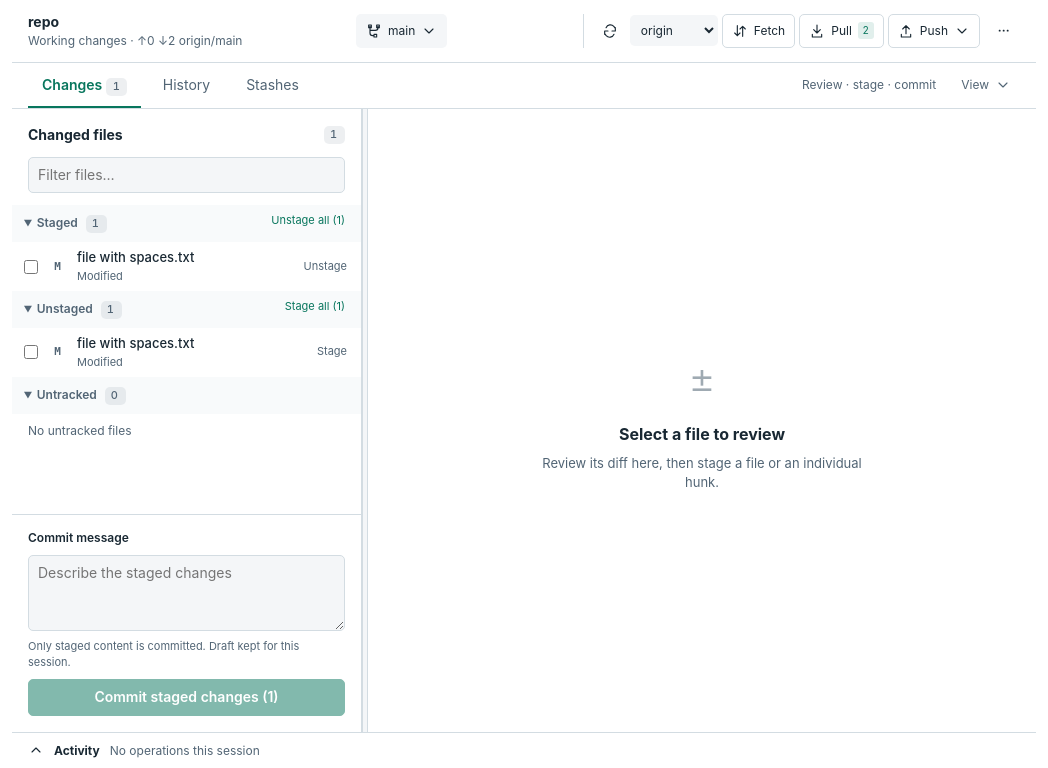
Scenario: repository workflows (mocked IPC) › opens in Changes, selects only the inspected context, and retains the draft across workspaces
Click the button "M file with spaces.txt Modified" below "Unstaged" at (176,352), box left=42, top=328, right=309, bottom=377
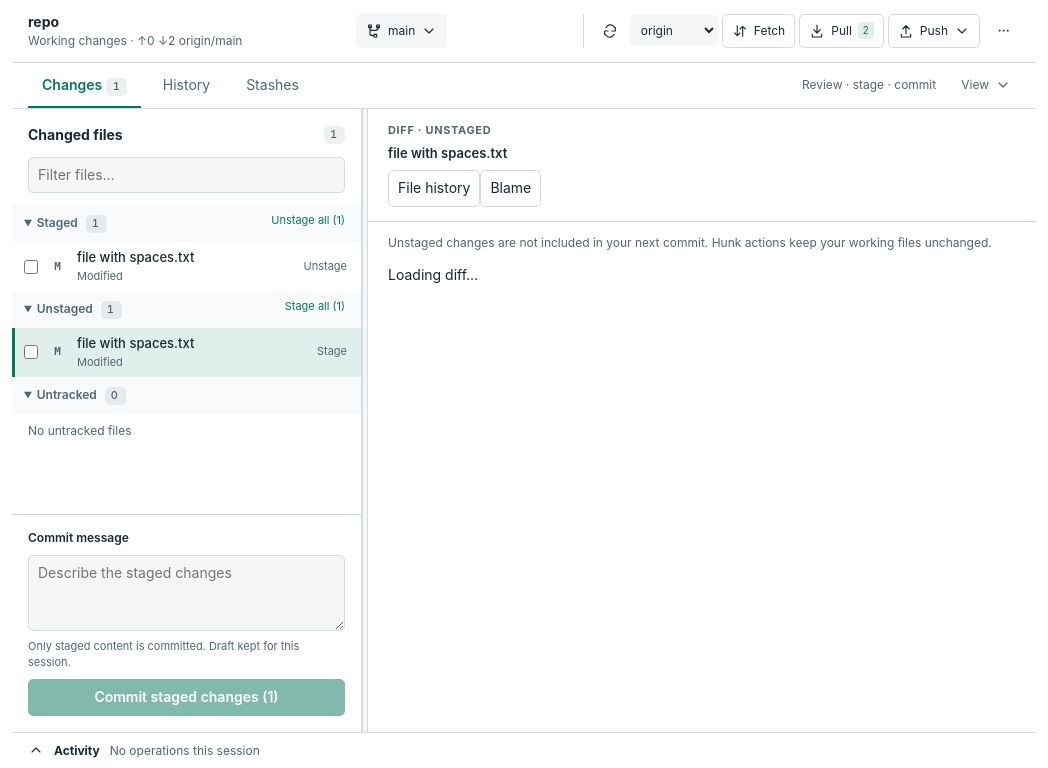
expect the element named "File diff" is shown: met, box left=368, top=109, right=1036, bottom=283
Type "Keep across views" into the text box labelled "Commit message" at (186,593), box left=28, top=554, right=345, bottom=631
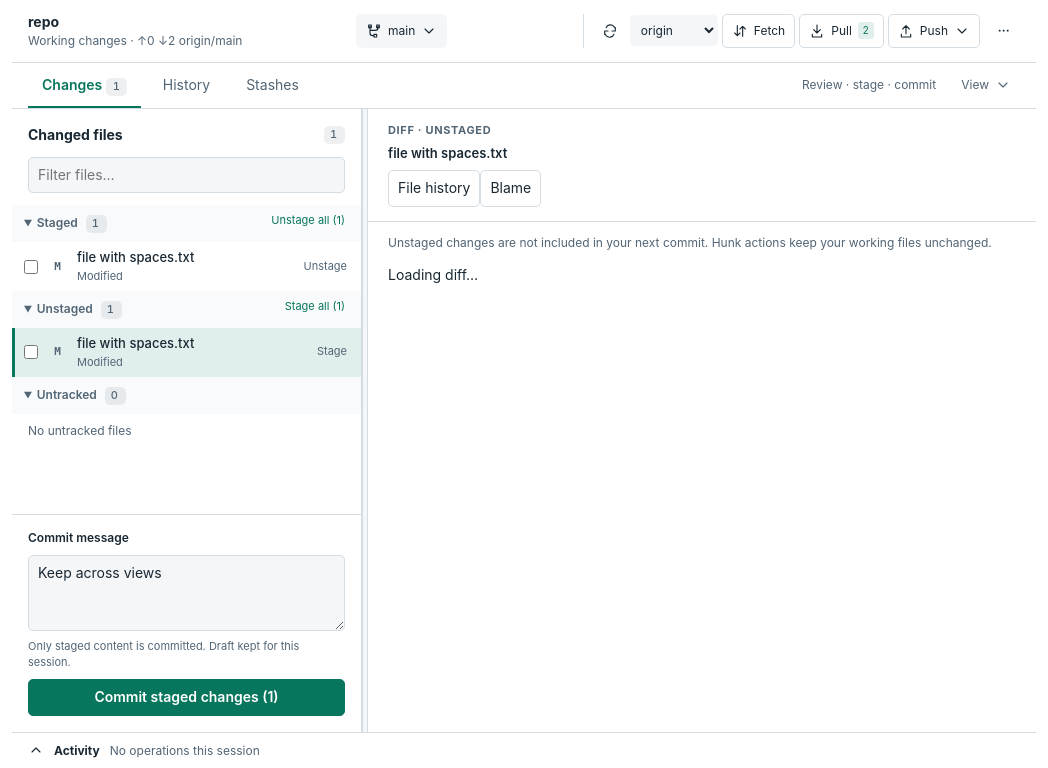
Click the button "History" at (186,85), box left=149, top=63, right=224, bottom=107
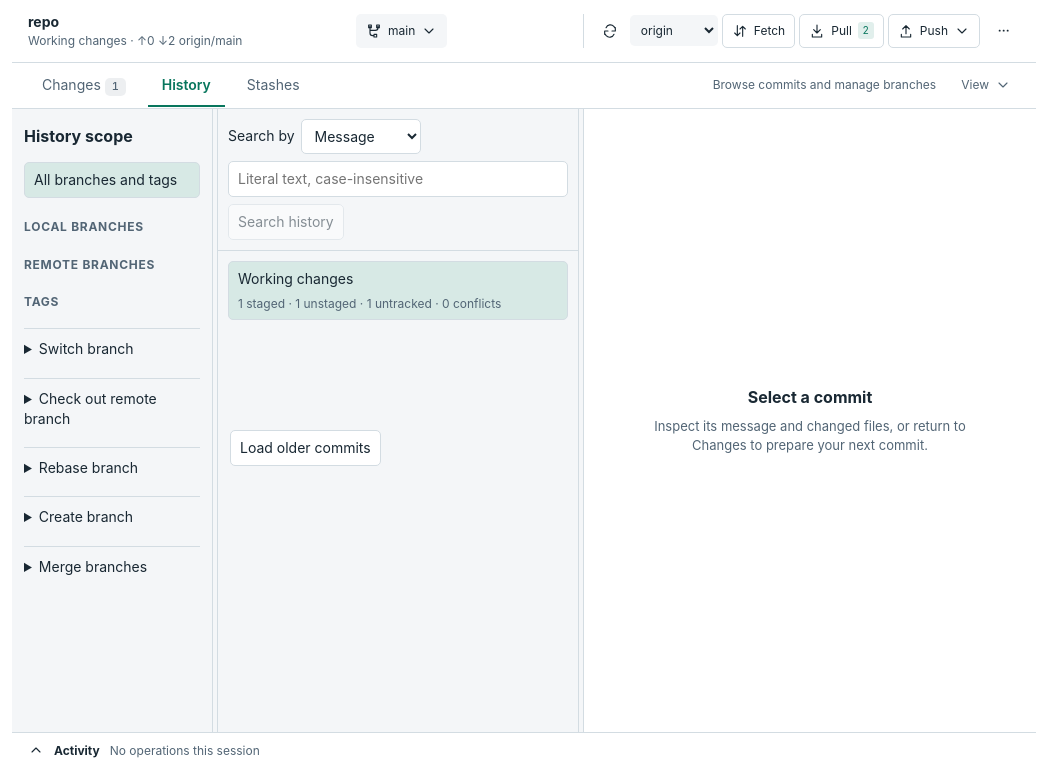
expect the element "history" is shown: met, box left=218, top=109, right=578, bottom=466
Click the button "Changes 1" at (84,85), box left=28, top=63, right=140, bottom=108
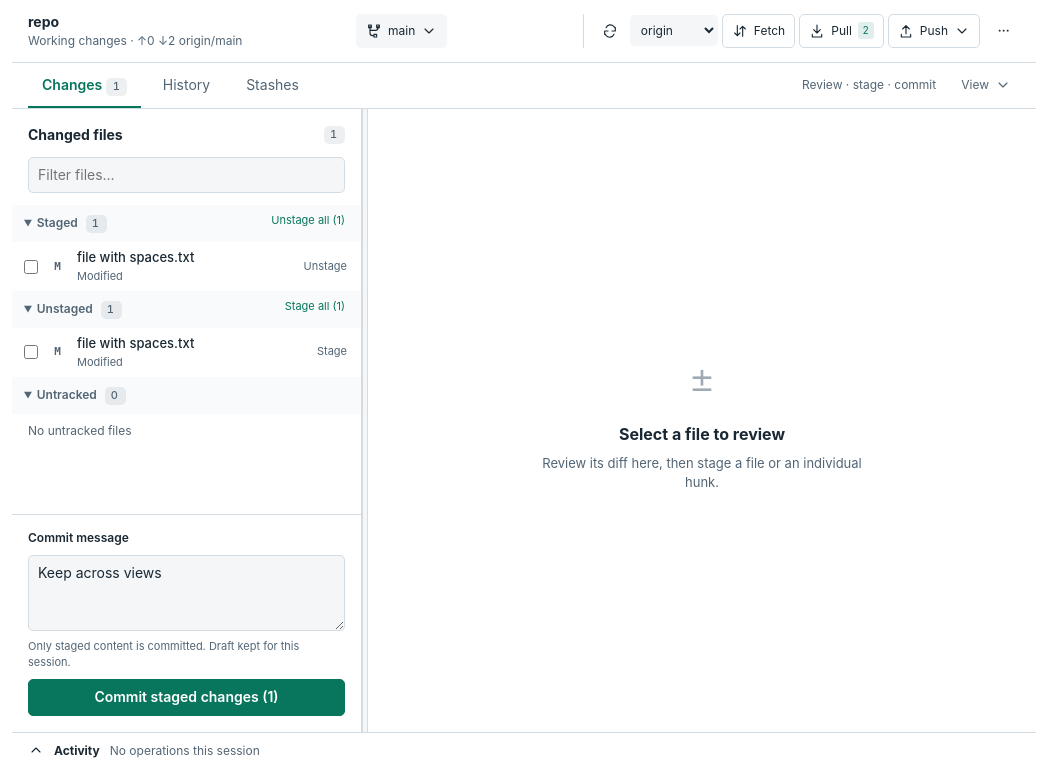
expect the text box labelled "Commit message" holds "Keep across views": met, box left=28, top=554, right=345, bottom=631
